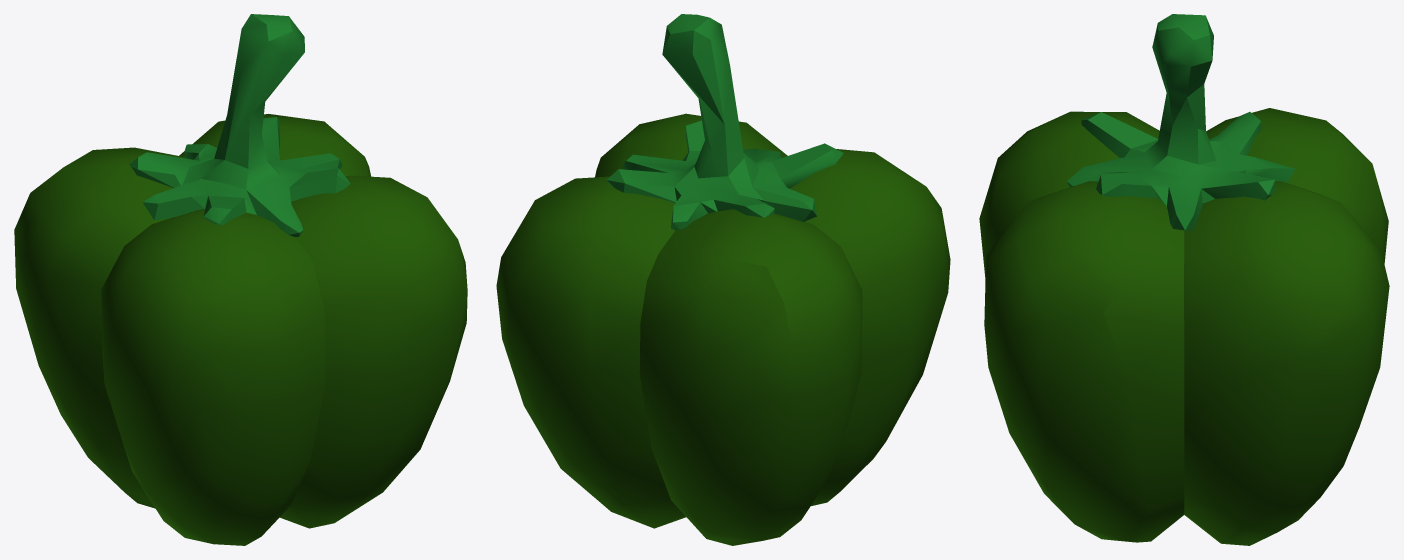
File: green paprika.fbx
3 renders of one model, left to right at view 1: azimuth 30°, elevation 25°; view 2: azimuth 150°, elevation 25°; view 3: azimuth 270°, elevation 25°, orthographic. The views are drawn at different scales.
Parts seen in each view (by area): view 1: Cube, Cube.002; view 2: Cube, Cube.002; view 3: Cube, Cube.002.
Boxes of the visible parts, x1,y1,x2,y2 form: Cube: (14,114,467,545); Cube.002: (129,14,350,236); Cube: (496,113,950,545); Cube.002: (606,14,843,230); Cube: (979,108,1389,545); Cube.002: (1066,14,1295,230).
Bounding box in the file's own units: 151 × 213 × 153.
